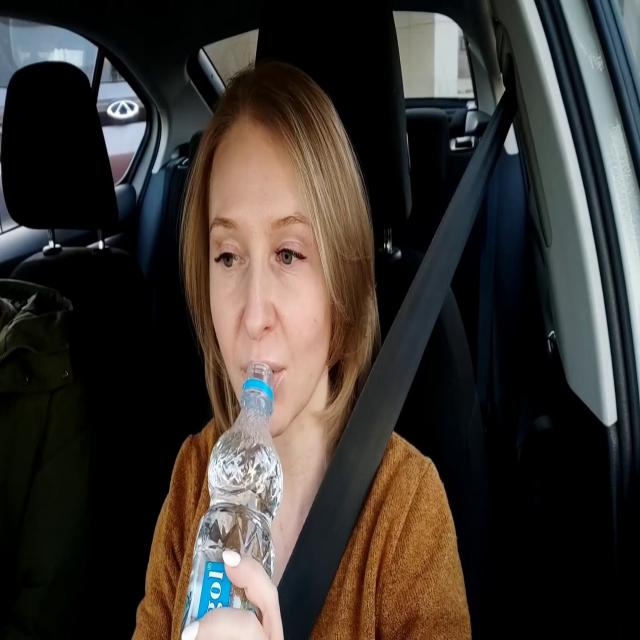3: (276, 77, 518, 640)
Seatbelt: (179, 361, 286, 631)
